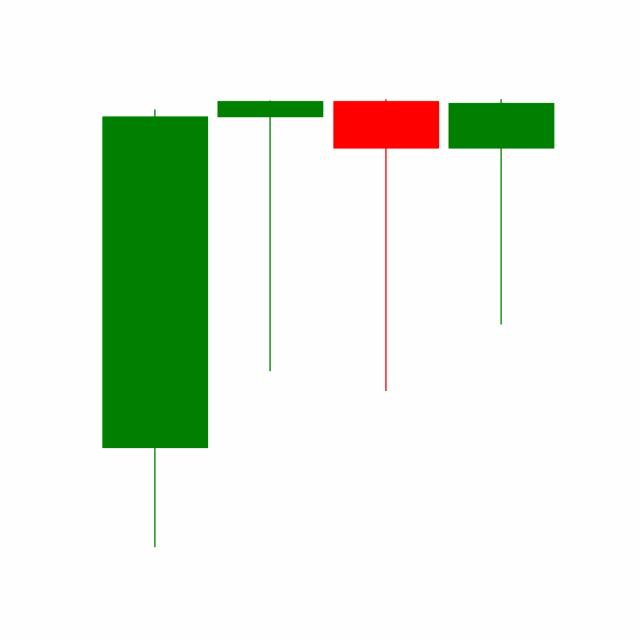Hanging Man: (328, 95, 444, 395)
